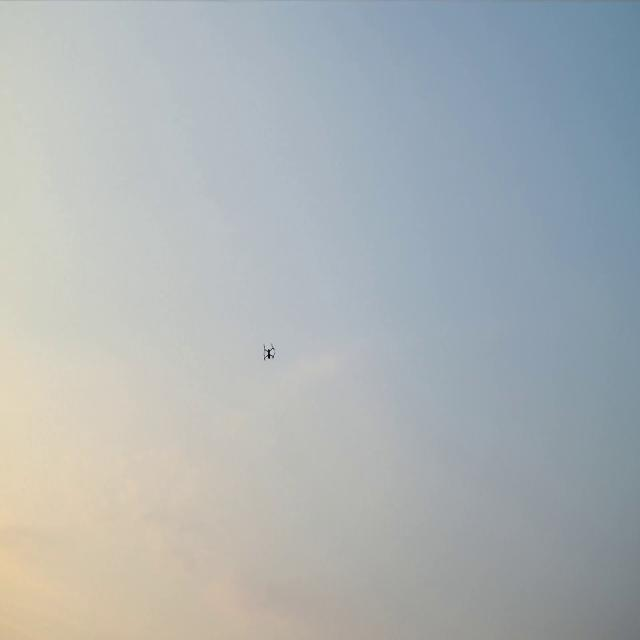UAV: (264, 346, 274, 359)
